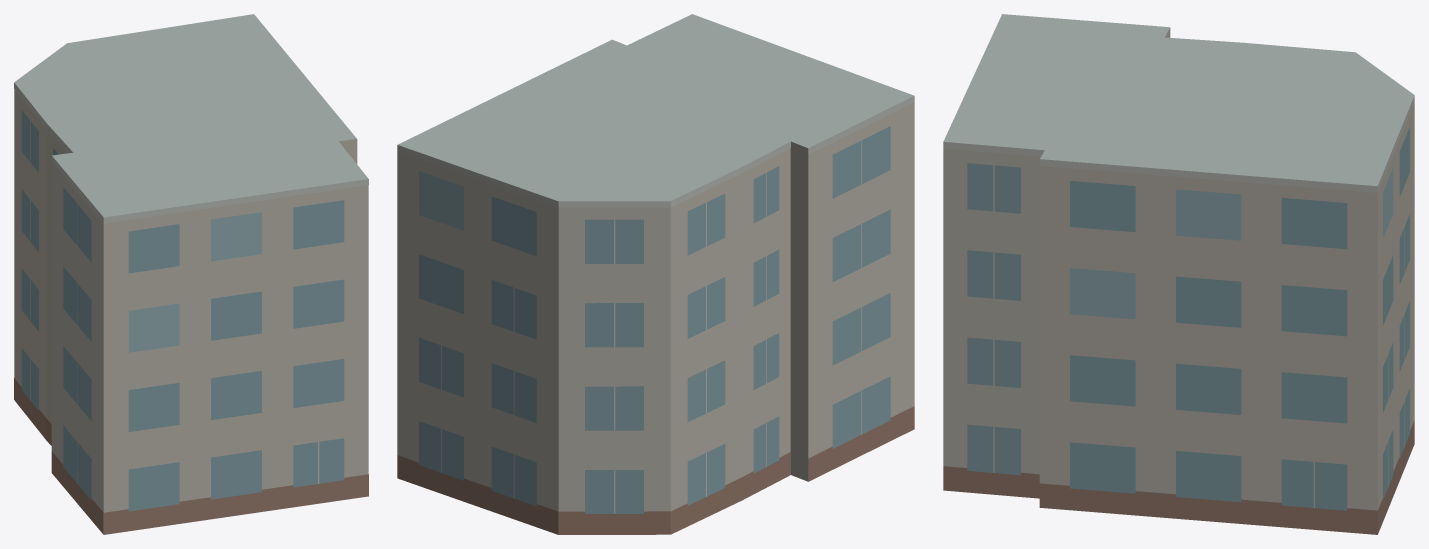
The model's file is survey-upis-33017317.glb.
3 views of the same model, side by side, from view 1: azimuth 30°, elevation 25°; view 2: azimuth 150°, elevation 25°; view 3: azimuth 270°, elevation 25° (orthographic). The views are drawn at different scales.
Parts seen in each view (by area): view 1: survey-upis-33017317.tmp; view 2: survey-upis-33017317.tmp; view 3: survey-upis-33017317.tmp.
Boxes of the visible parts, left/top/right/bottom form: survey-upis-33017317.tmp: left=14, top=14, right=368, bottom=534; survey-upis-33017317.tmp: left=397, top=14, right=914, bottom=534; survey-upis-33017317.tmp: left=943, top=14, right=1414, bottom=534.
Bounding box in the file's own units: 13.57 × 12.8 × 15.69.
